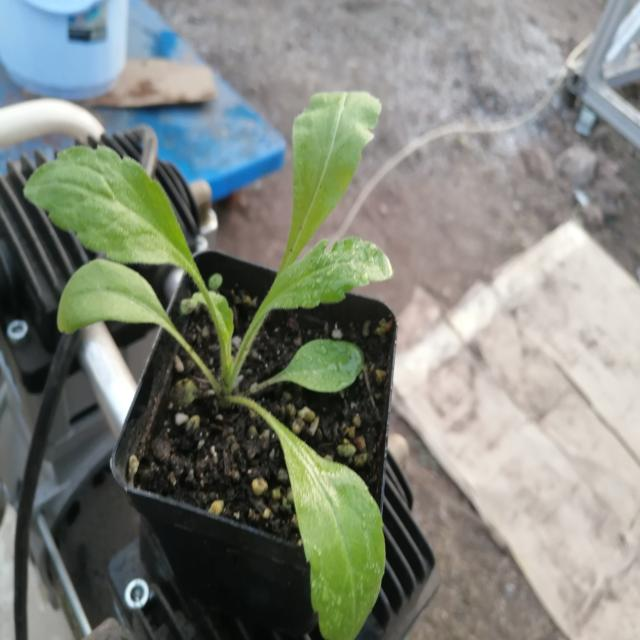horseweed: (35, 108, 391, 605)
